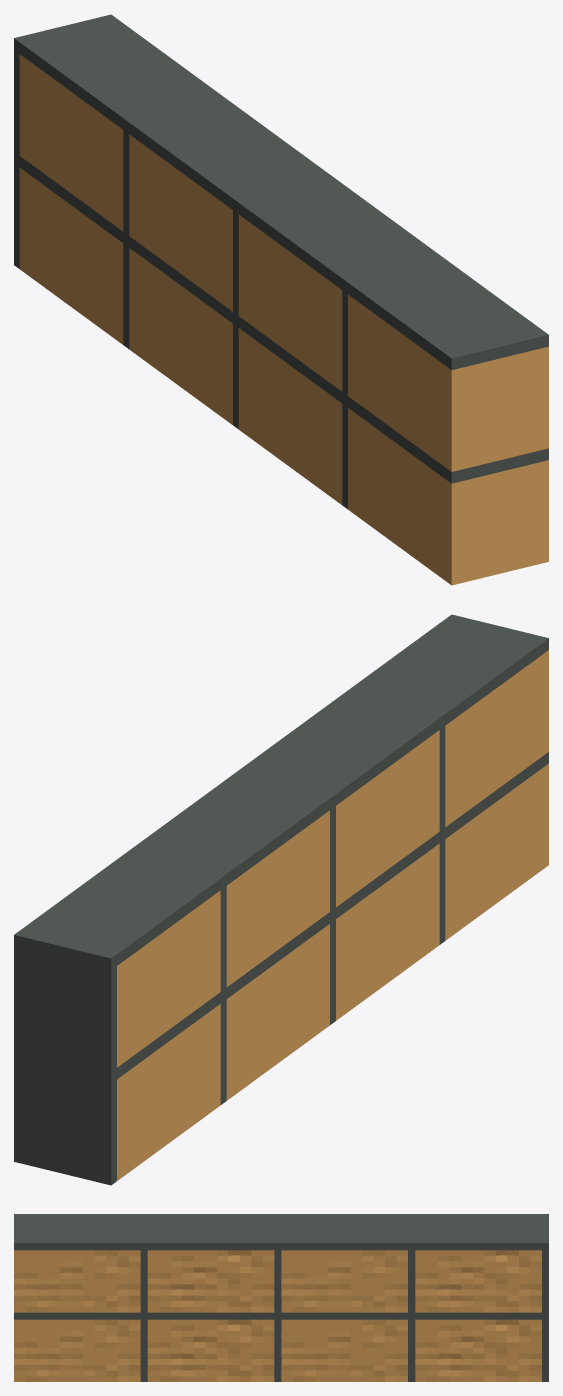
Rendered from brick.fbx.
The picture shows the model from 3 angles, top to bottom: view 1: azimuth 30°, elevation 25°; view 2: azimuth 150°, elevation 25°; view 3: azimuth 270°, elevation 25°; orthographic projection. The views are drawn at different scales.
Visible parts, largest first — view 1: Cube.001; view 2: Cube.001; view 3: Cube.001.
Boxes of the visible parts, x1,y1,x2,y2 form: Cube.001: (14, 14, 548, 585); Cube.001: (14, 614, 548, 1185); Cube.001: (14, 1214, 548, 1381).
Size of the model in its own units: 202 by 446 by 1559.
